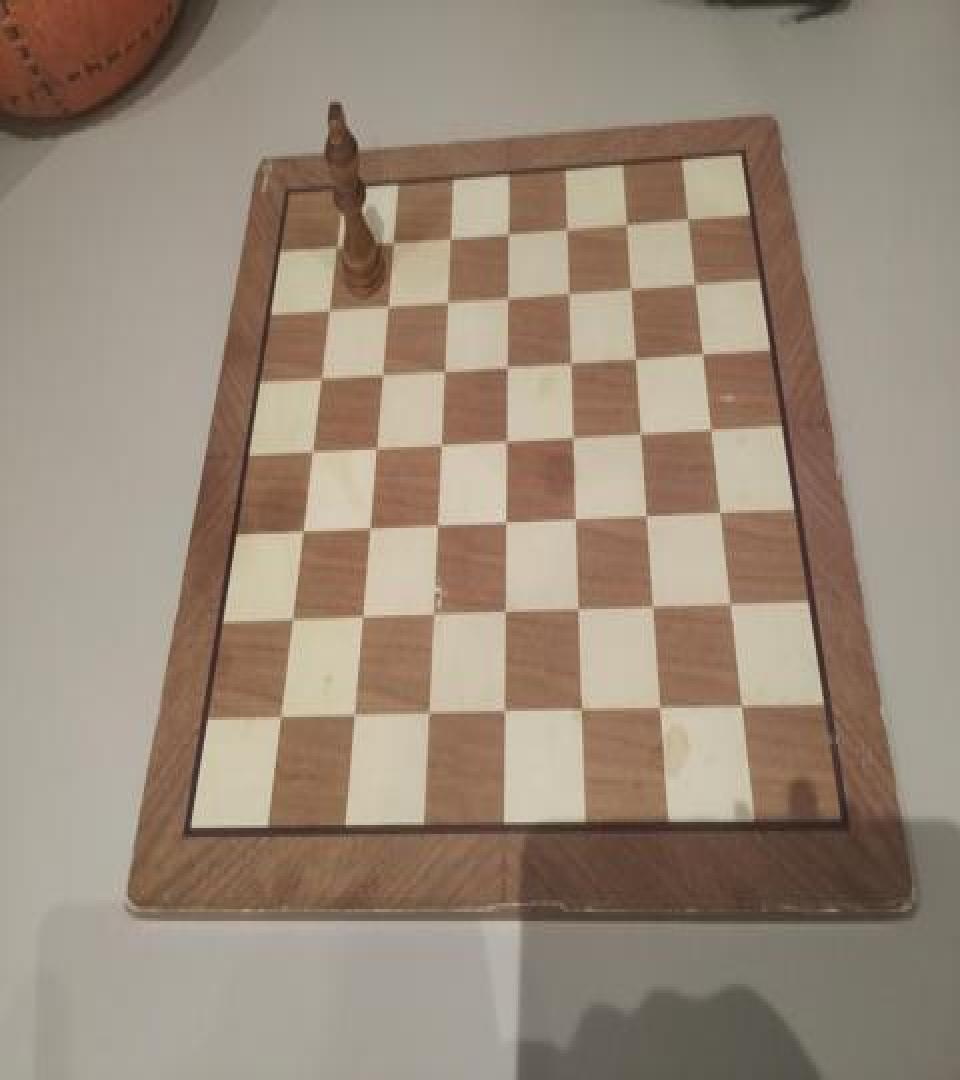xcorner: (385, 223, 405, 254), (343, 702, 363, 732), (419, 700, 439, 730), (496, 699, 516, 729), (654, 696, 674, 726), (735, 694, 755, 724), (280, 604, 300, 634), (424, 600, 444, 630), (497, 597, 517, 627), (647, 592, 667, 622), (724, 591, 744, 621), (291, 514, 311, 544), (359, 512, 379, 542), (428, 508, 448, 538), (498, 506, 518, 536), (569, 504, 589, 534), (641, 501, 661, 531), (713, 498, 733, 528), (302, 432, 322, 462), (367, 429, 387, 459), (432, 426, 452, 456), (499, 423, 519, 453), (567, 420, 587, 450), (635, 417, 655, 447), (704, 414, 724, 444), (311, 358, 331, 388), (373, 354, 393, 384), (436, 351, 456, 381), (500, 348, 520, 378), (564, 345, 584, 375), (630, 340, 650, 370), (696, 338, 716, 368), (320, 290, 340, 320), (379, 286, 399, 316), (440, 282, 460, 312), (501, 279, 521, 309), (562, 274, 582, 304), (625, 272, 645, 302), (688, 267, 708, 297), (328, 226, 348, 256), (443, 219, 463, 249), (501, 214, 521, 244), (560, 212, 580, 242), (620, 207, 640, 237), (681, 204, 701, 234), (267, 704, 287, 733), (575, 698, 595, 727), (351, 602, 371, 631), (572, 596, 592, 625)
